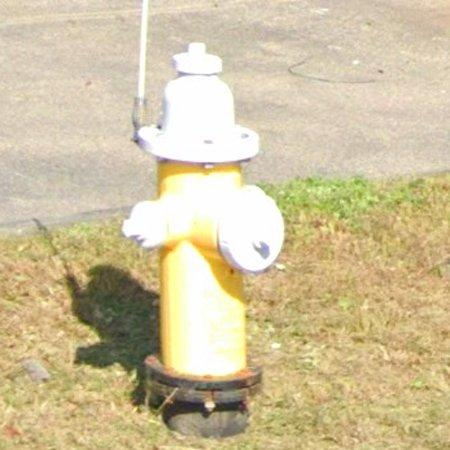a fire hydrant: (123, 43, 284, 436)
